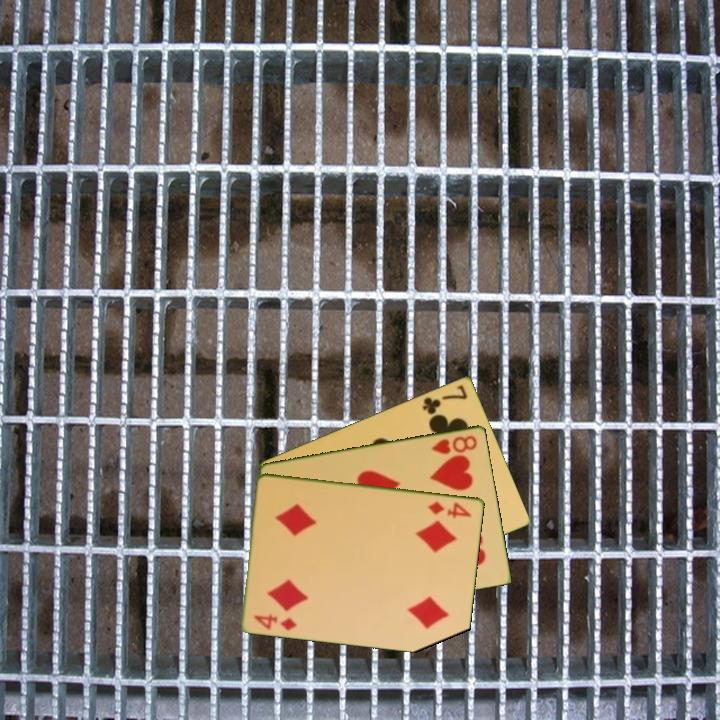4d: (250, 610, 300, 633), (425, 497, 474, 520)
7c: (419, 381, 470, 417)
8h: (428, 432, 480, 457)
